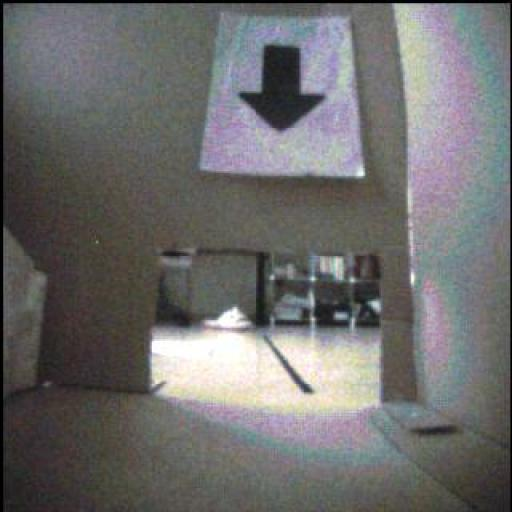arrow: (241, 46, 326, 132)
